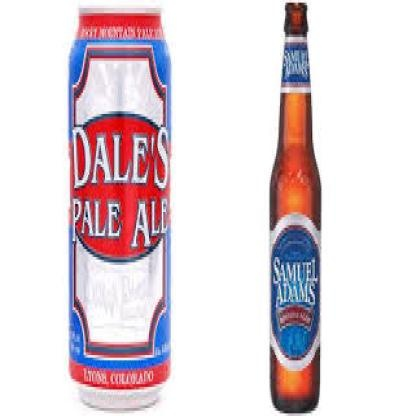trash: (69, 12, 169, 408), (270, 3, 320, 412)
